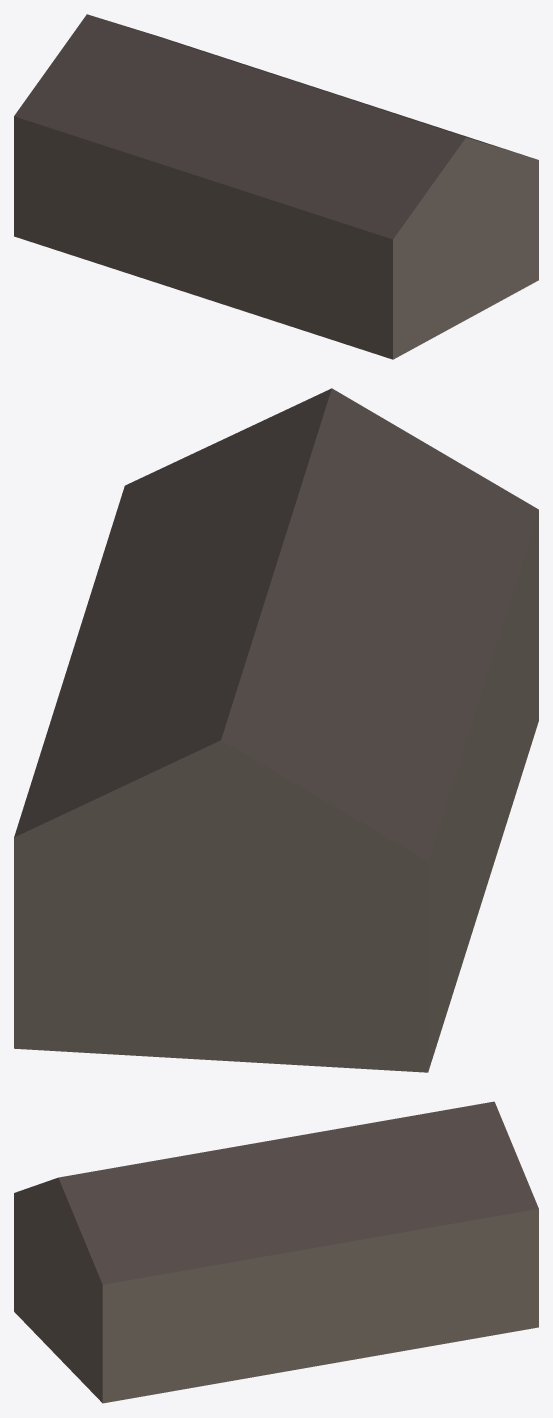
3 renders of one model, top to bottom at view 1: azimuth 30°, elevation 25°; view 2: azimuth 150°, elevation 25°; view 3: azimuth 270°, elevation 25°, orthographic. The views are drawn at different scales.
Visible parts, largest first — view 1: HP-w859457486; view 2: HP-w859457486; view 3: HP-w859457486.
Boxes of the visible parts, left/top/right/bottom form: HP-w859457486: left=14, top=14, right=538, bottom=359; HP-w859457486: left=14, top=388, right=538, bottom=1072; HP-w859457486: left=14, top=1101, right=538, bottom=1403.
Bounding box in the file's own units: 18.22 × 9.11 × 24.07.
